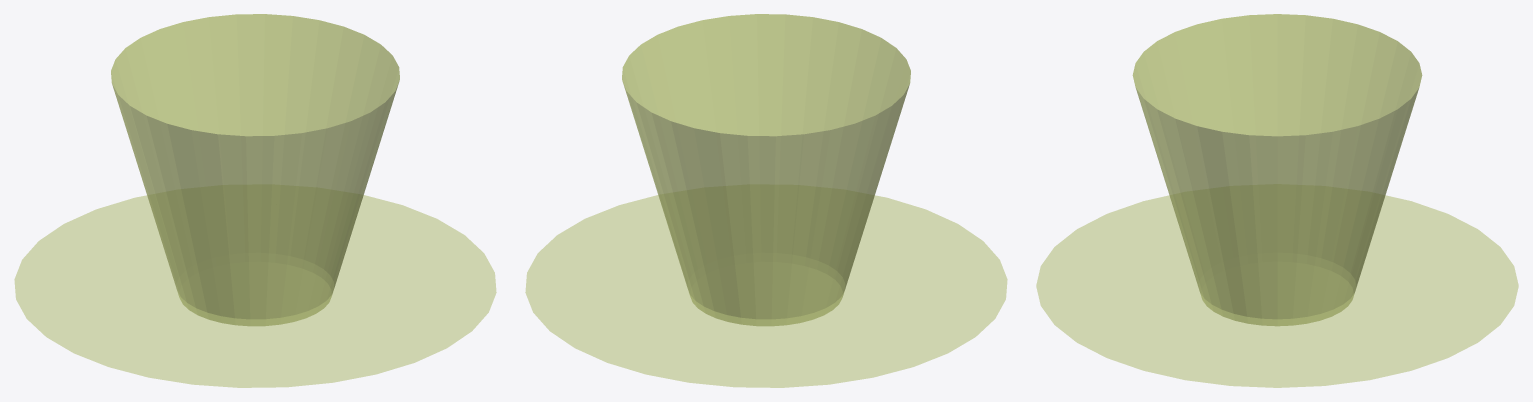
The model's file is Custom Reticle.fbx.
3 views of the same model, side by side, from view 1: azimuth 30°, elevation 25°; view 2: azimuth 150°, elevation 25°; view 3: azimuth 270°, elevation 25° (orthographic).
Parts seen in each view (by area): view 1: Cylinder.001, Cylinder; view 2: Cylinder.001, Cylinder; view 3: Cylinder.001, Cylinder.
Part boxes in pixels (left/top/right/bottom): Cylinder.001: left=111, top=14, right=399, bottom=325; Cylinder: left=14, top=195, right=496, bottom=387; Cylinder.001: left=622, top=14, right=910, bottom=325; Cylinder: left=525, top=195, right=1007, bottom=387; Cylinder.001: left=1132, top=14, right=1422, bottom=325; Cylinder: left=1036, top=195, right=1518, bottom=387.
Bounding box in the file's own units: 0.5 × 0.5 × 0.25.
